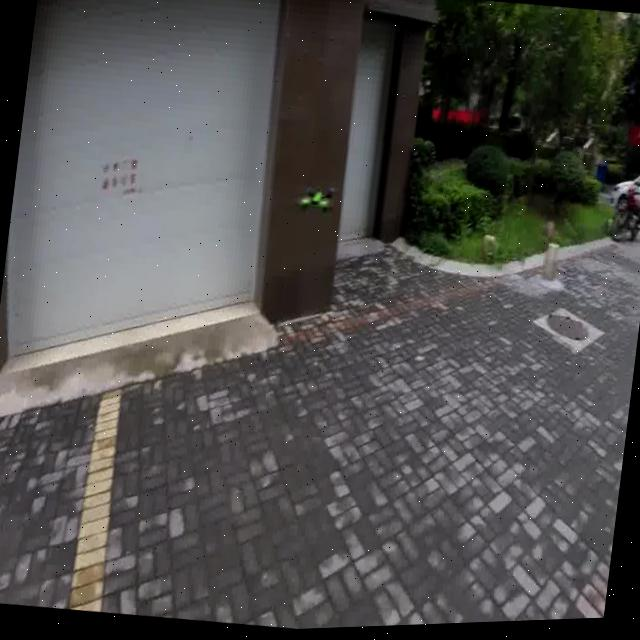drone: (294, 171, 339, 230)
